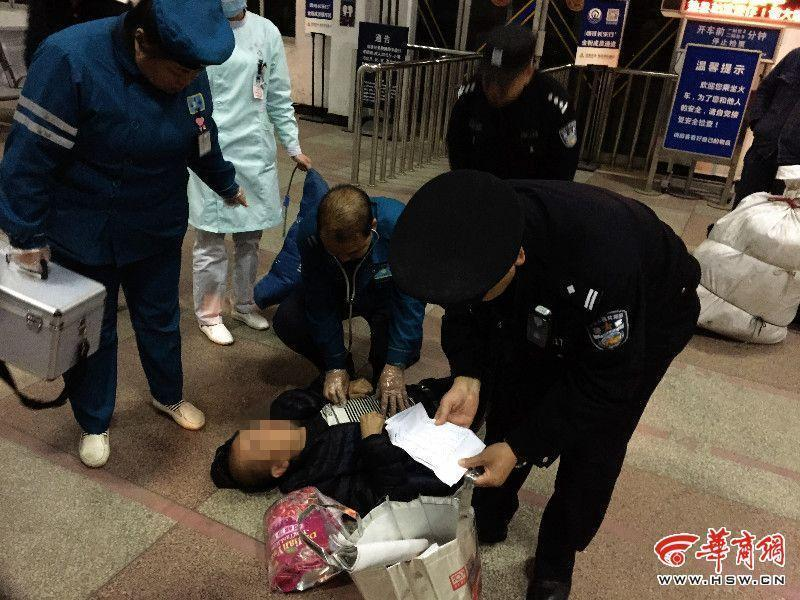Fall-Detected: (206, 354, 501, 506)
